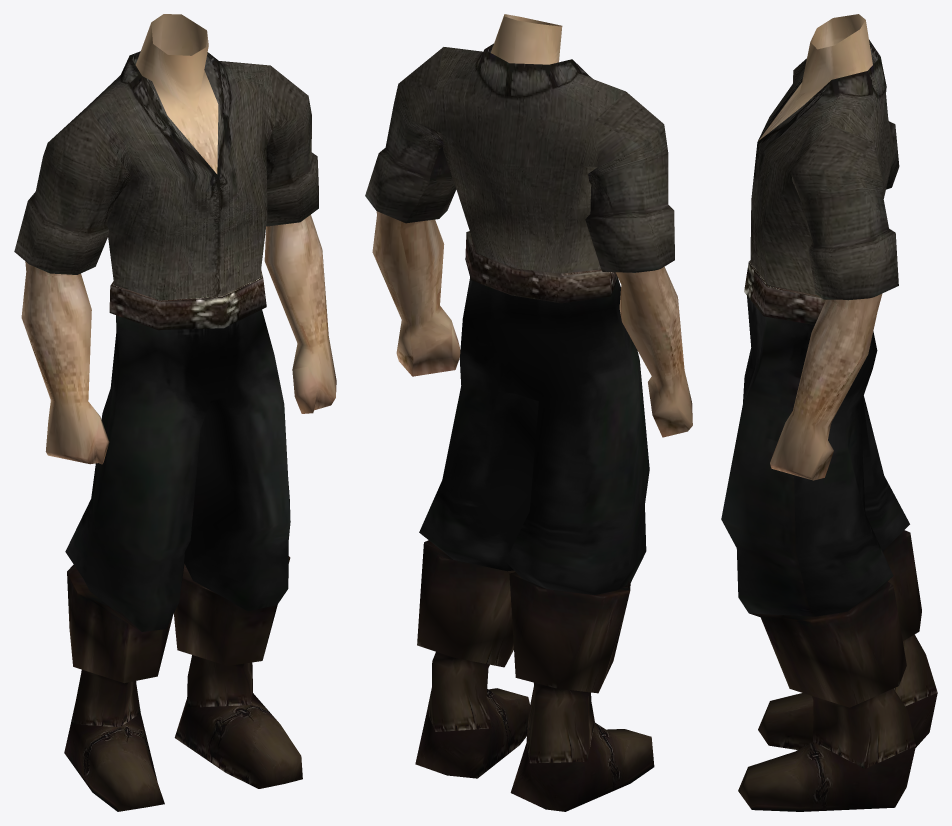
Rendered from KOSZULA_SZARA.glb.
3 renders of one model, left to right at view 1: azimuth 30°, elevation 25°; view 2: azimuth 150°, elevation 25°; view 3: azimuth 270°, elevation 25°, orthographic.
Visible parts, largest first — view 1: KOSZULA_SZARA; view 2: KOSZULA_SZARA; view 3: KOSZULA_SZARA.
Boxes of the visible parts, x1,y1,x2,y2 form: KOSZULA_SZARA: (14,14,336,811); KOSZULA_SZARA: (365,14,692,811); KOSZULA_SZARA: (721,14,937,811).
Bounding box in the file's own units: 0.6885 × 1.68 × 0.4402.
Materials: 2 (2 with a texture image).
